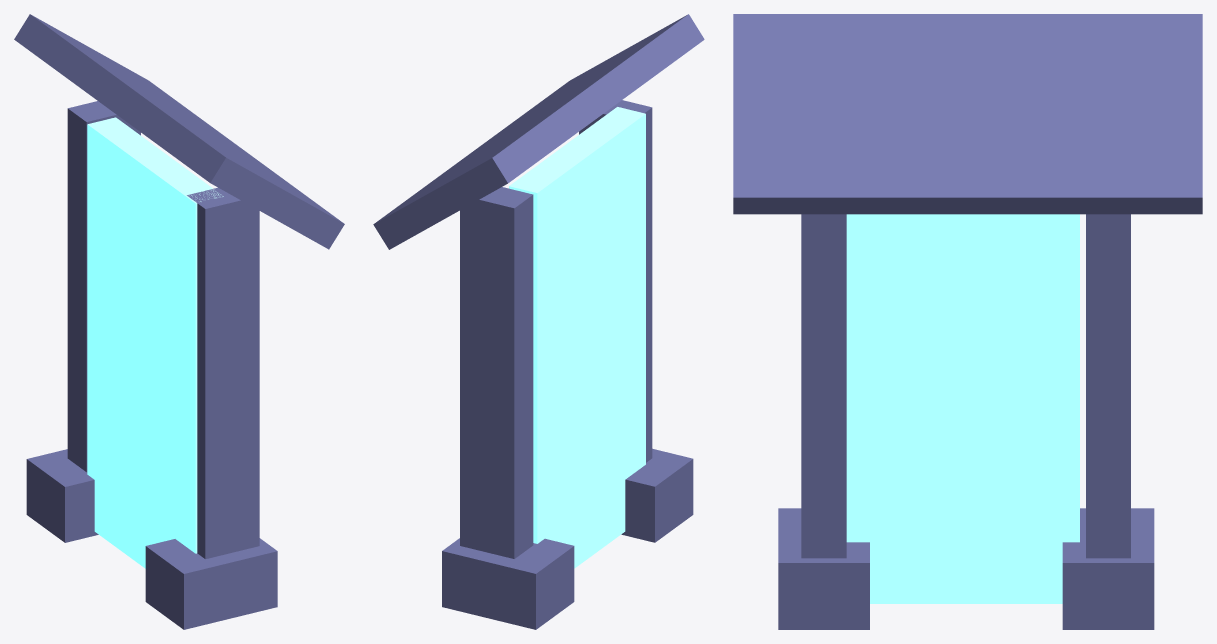
File: Doorway.fbx
3 views of the same model, side by side, from view 1: azimuth 30°, elevation 25°; view 2: azimuth 150°, elevation 25°; view 3: azimuth 270°, elevation 25° (orthographic). The views are drawn at different scales.
Visible parts, largest first — view 1: Cube.045, Cube.043, Cube.046, Cube.047, Cube.044, Cube.048; view 2: Cube.045, Cube.044, Cube.046, Cube.048, Cube.047, Cube.043; view 3: Cube.046, Cube.045, Cube.043, Cube.044, Cube.048, Cube.047.
Part boxes in pixels (left/top/right/bottom): Cube.045: left=87, top=117, right=223, bottom=568; Cube.043: left=187, top=187, right=259, bottom=559; Cube.046: left=14, top=14, right=344, bottom=249; Cube.047: left=145, top=538, right=277, bottom=629; Cube.044: left=67, top=101, right=140, bottom=472; Cube.048: left=26, top=449, right=98, bottom=542; Cube.045: left=509, top=107, right=645, bottom=568; Cube.044: left=460, top=187, right=533, bottom=558; Cube.046: left=373, top=14, right=704, bottom=249; Cube.048: left=442, top=538, right=574, bottom=629; Cube.047: left=621, top=448, right=693, bottom=542; Cube.043: left=579, top=100, right=652, bottom=462; Cube.046: left=733, top=14, right=1202, bottom=214; Cube.045: left=846, top=214, right=1079, bottom=603; Cube.043: left=801, top=214, right=846, bottom=558; Cube.044: left=1086, top=214, right=1130, bottom=558; Cube.048: left=1062, top=508, right=1154, bottom=629; Cube.047: left=778, top=508, right=869, bottom=629.
Bounding box in the file's own units: 1.28 × 4.12 × 3.05.
